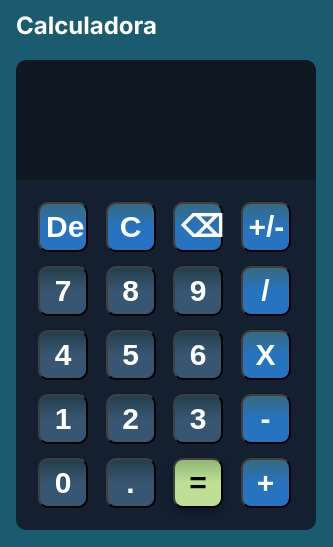
Test: negative-number
The width and height of the screenshot is (333, 547).
What coordinates should you click on to do the following:
click the button "1"
I would click on:
 (63, 419)
Its box is [38,394,88,444].
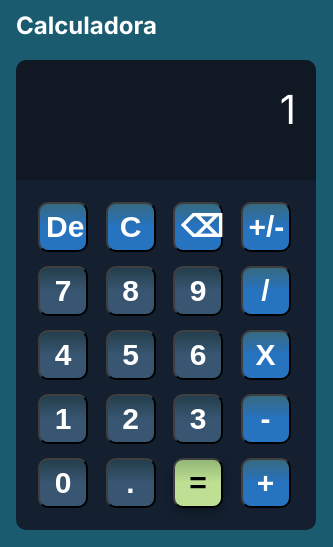
What coordinates should you click on to do the following:
click the button "-"
I would click on:
 (266, 419)
Its box is [240,394,290,444].
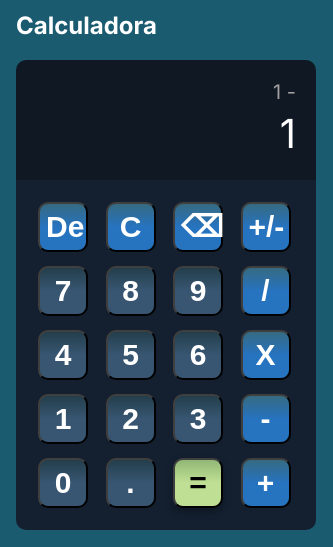
What coordinates should you click on to do the following:
click the button "2"
I would click on:
 (130, 419)
Its box is [106,394,156,444].
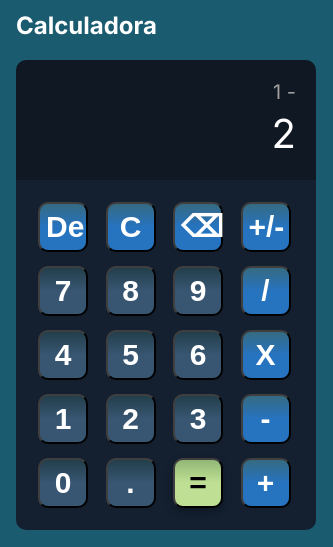
What coordinates should you click on to do the following:
click the button "="
I would click on:
 (198, 483)
Its box is [173,458,223,508].
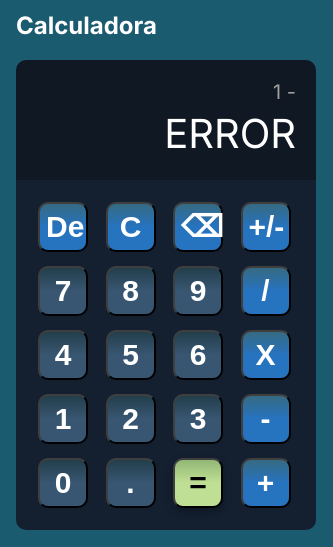
Expected: the text with test id "resultado" reads "ERROR", [164,109,296,158]
